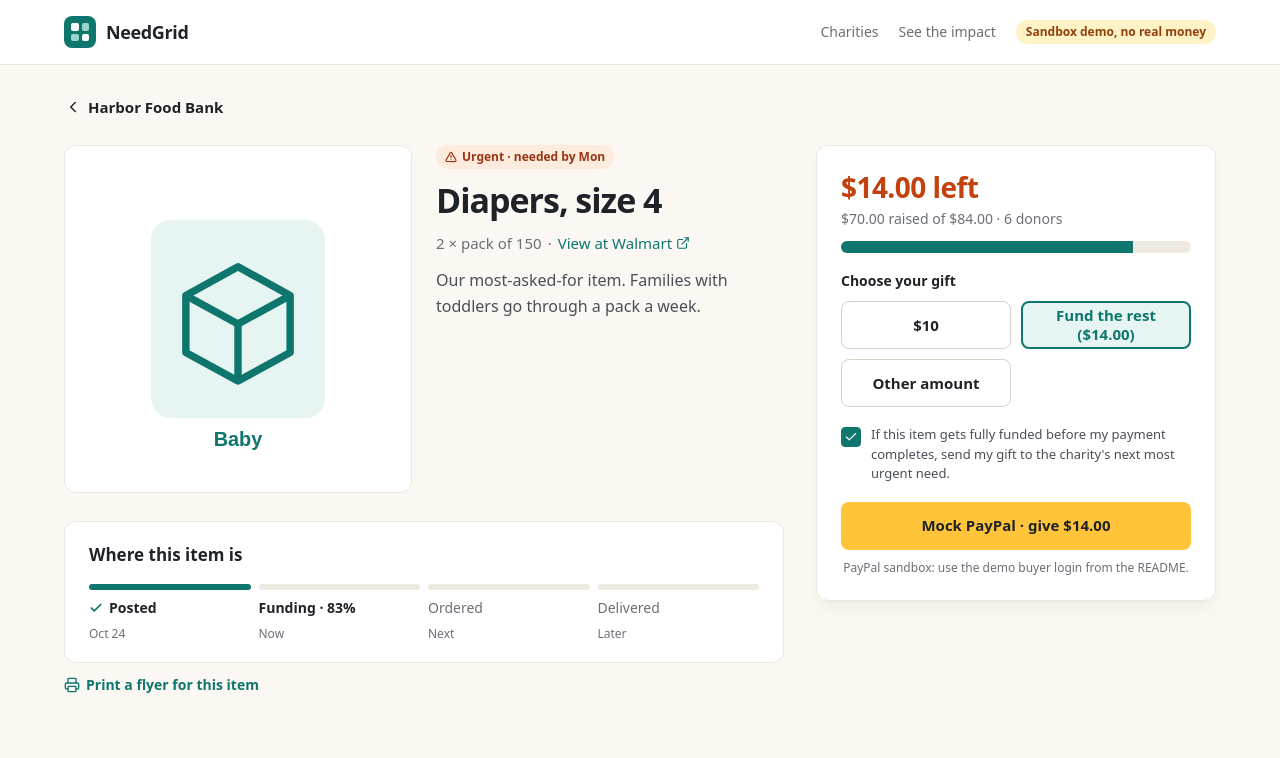
Scenario: DonatePanel with the mock PayPal button › retries a capture once after a network error
Click the button "Mock PayPal · give $14.00" at (1016,526), box [841,502,1191,550]
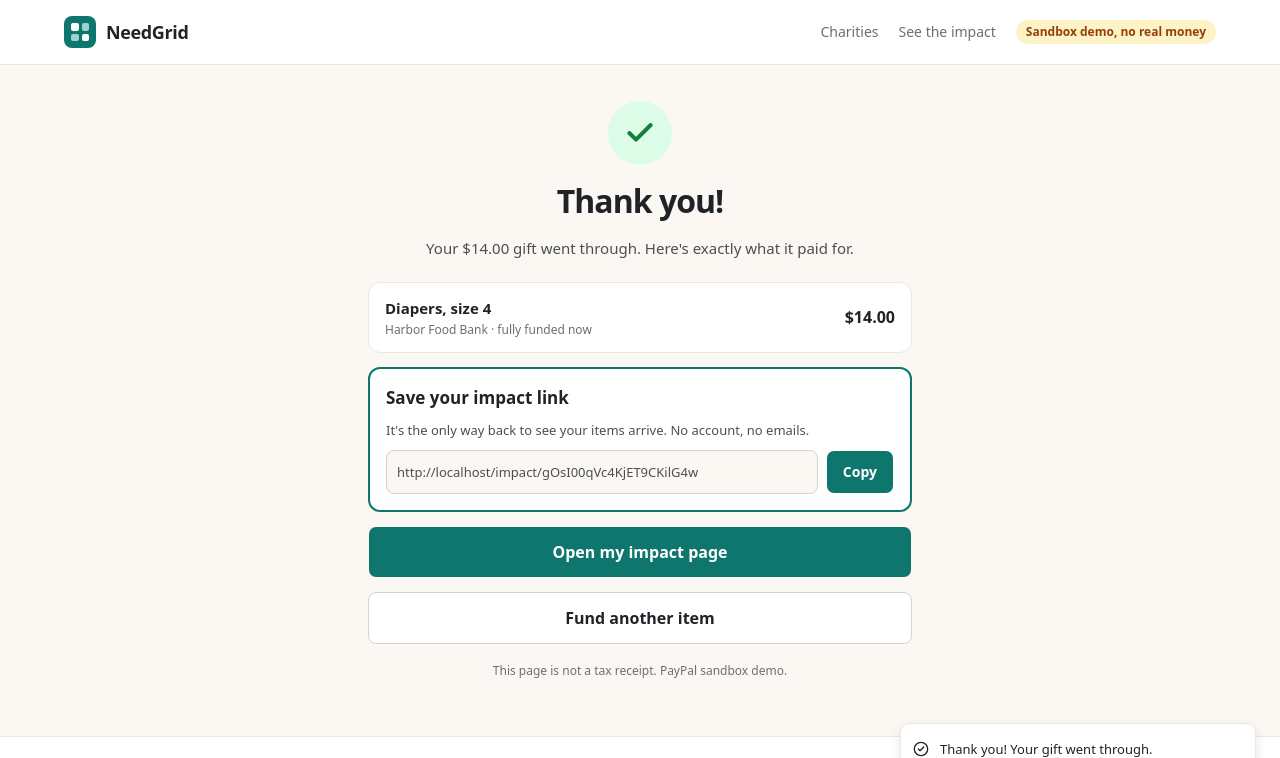
Now the heading "Thank you!" is shown, box [557,177,723,225]
